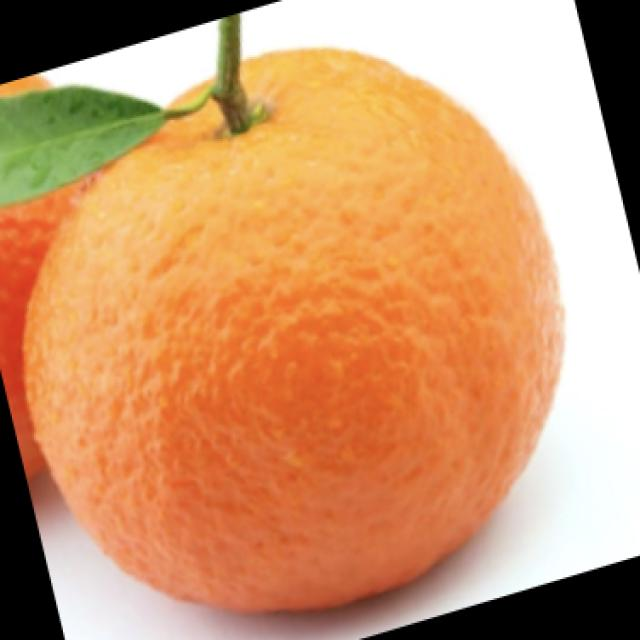orange: (42, 20, 581, 582)
